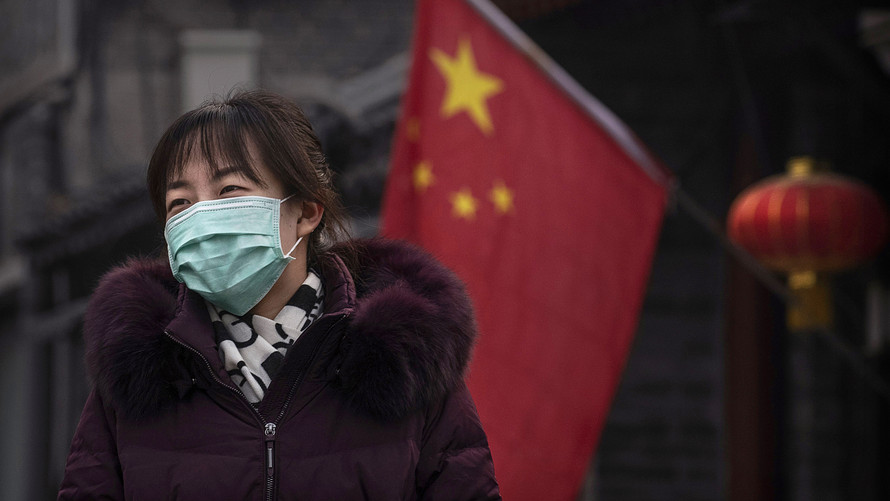surgical: (159, 197, 295, 315)
